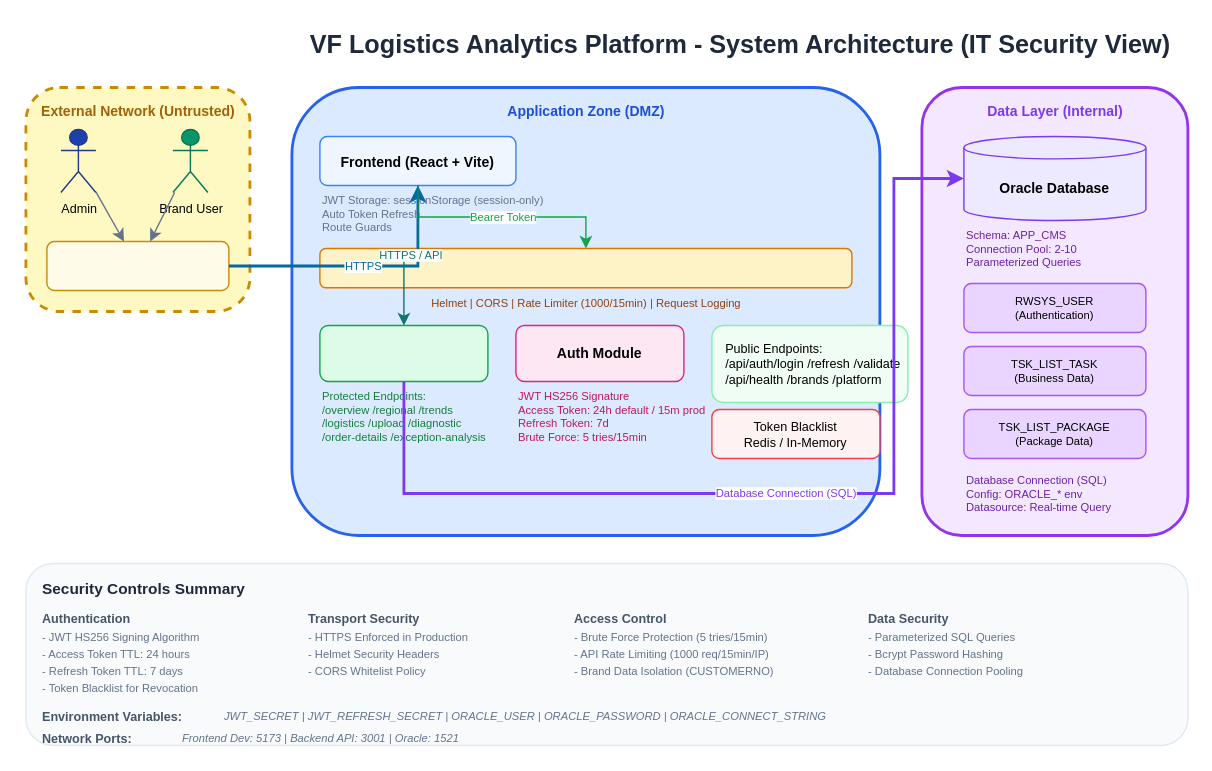
Some shapes in this 1212 by 771 pixel diagram are drawn without their labels. Each missing label, with the box of its shape:
Browser (HTTPS): (46, 240, 229, 290)
Express.js API (Port 3001): (318, 324, 488, 382)
Security Middleware: (318, 247, 852, 288)
